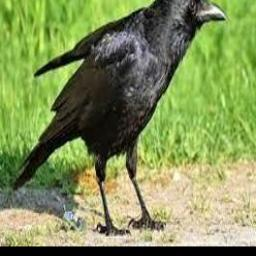Crow: (13, 0, 230, 237)
